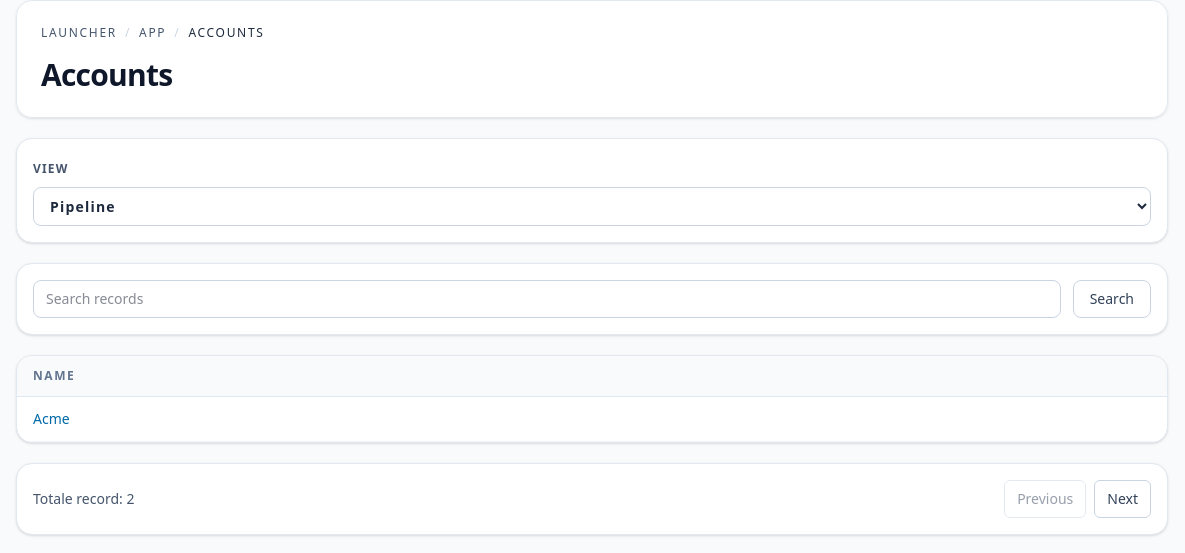
Test case: EntityListPage › navigates forward and backward using cursor requests
Expected: the link "Acme" is shown, [33, 409, 70, 428]
Click the button "Next" at (1123, 499), box [1094, 480, 1151, 518]
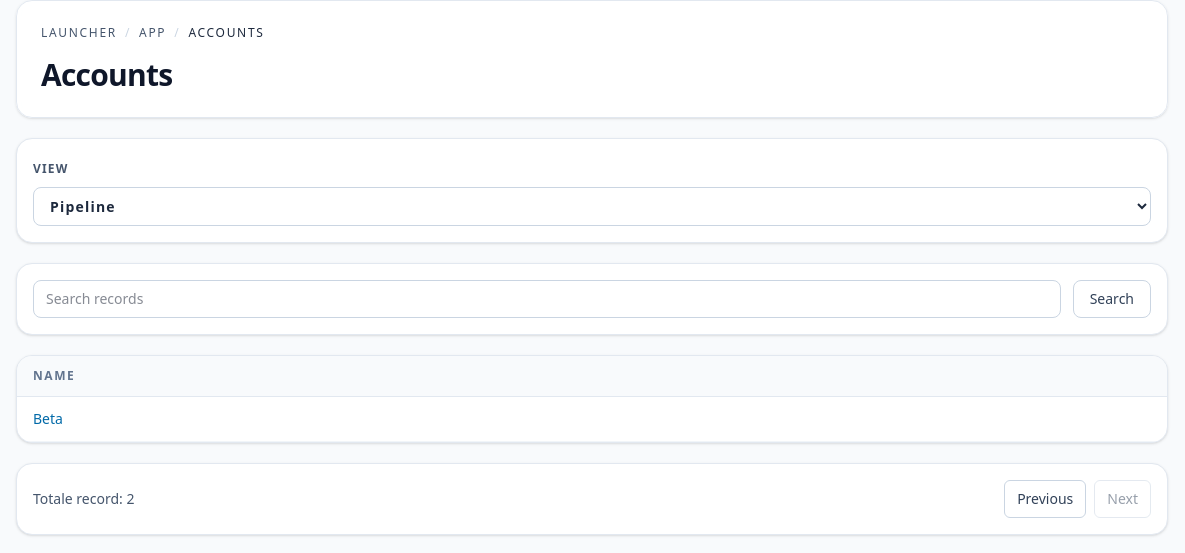
Result: the link "Beta" is shown at [33, 409, 63, 428]
Click the button "Previous" at (1045, 499), box [1004, 480, 1086, 518]
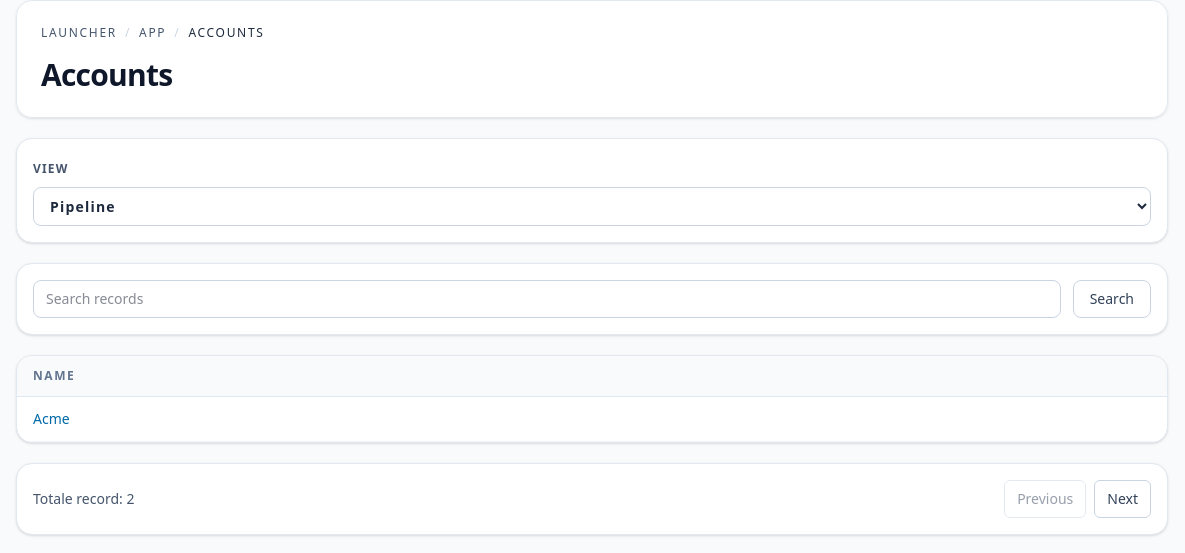
Result: the link "Acme" is shown at [33, 409, 70, 428]
